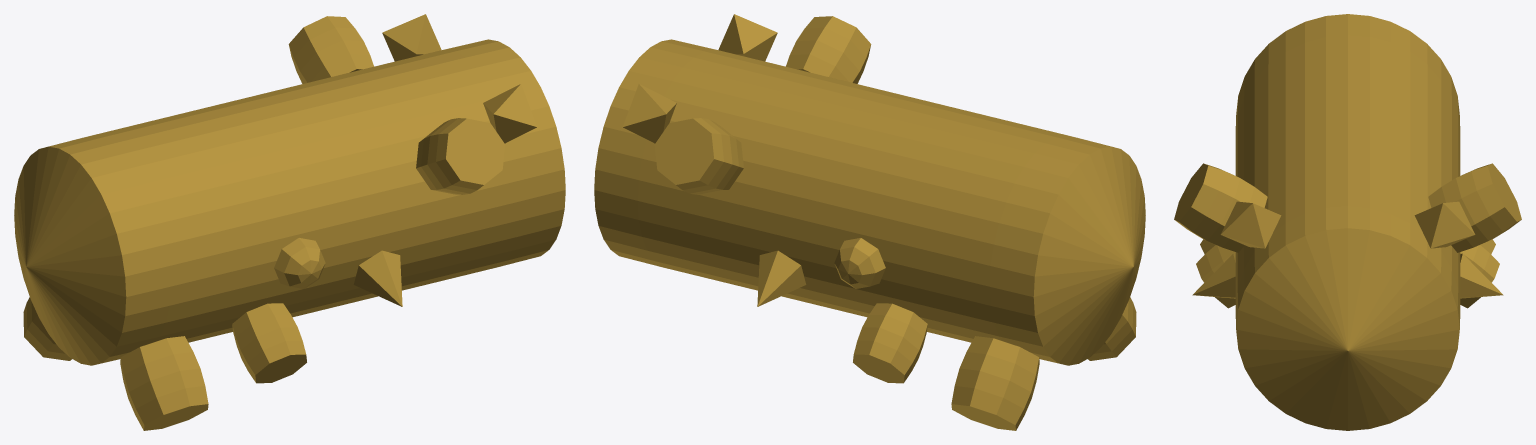
Rendered from exp1_ovoid_cylinder_sym_04.glb.
The picture shows the model from 3 angles, left to right: view 1: azimuth 30°, elevation 25°; view 2: azimuth 150°, elevation 25°; view 3: azimuth 270°, elevation 25°; orthographic projection.
Parts seen in each view (by area): view 1: exp1_ovoid_cylinder_sym_04; view 2: exp1_ovoid_cylinder_sym_04; view 3: exp1_ovoid_cylinder_sym_04.
Boxes of the visible parts, x1,y1,x2,y2 form: exp1_ovoid_cylinder_sym_04: (14,14,565,430); exp1_ovoid_cylinder_sym_04: (594,14,1145,430); exp1_ovoid_cylinder_sym_04: (1174,14,1521,430).
Size of the model in its own units: 3.52 by 1.65 by 2.01.
